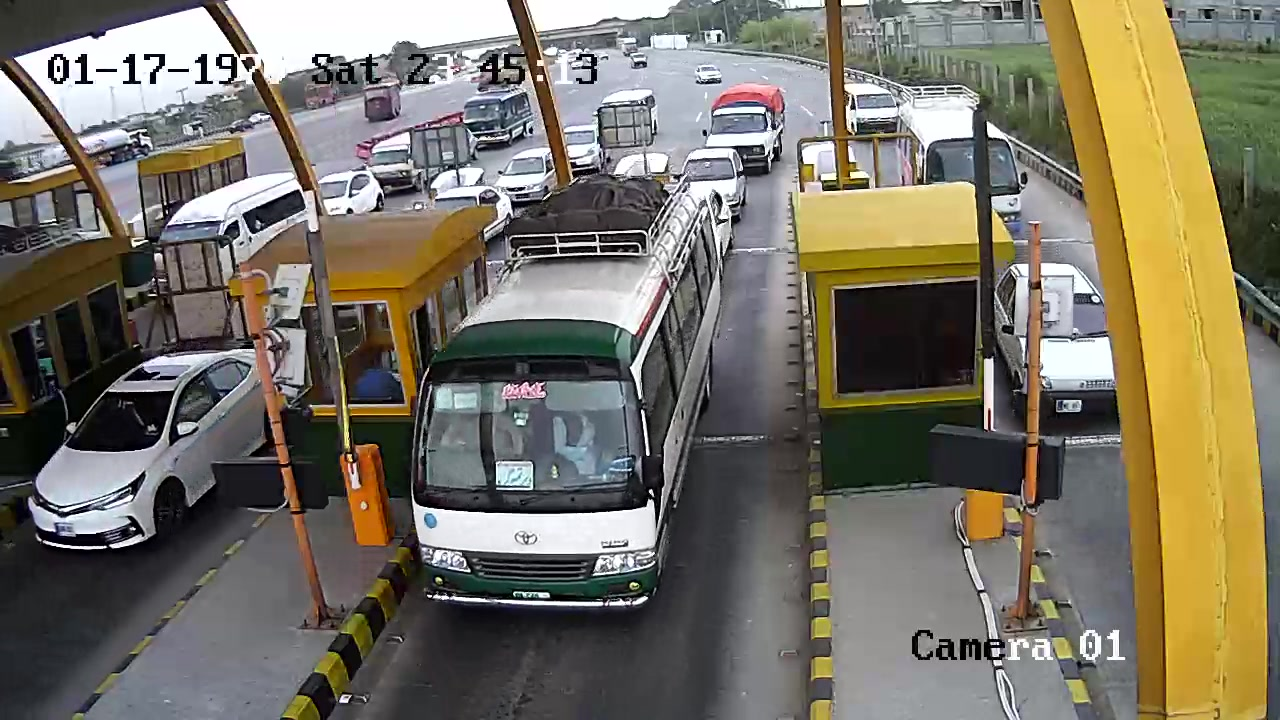F3: (410, 179, 720, 621)
